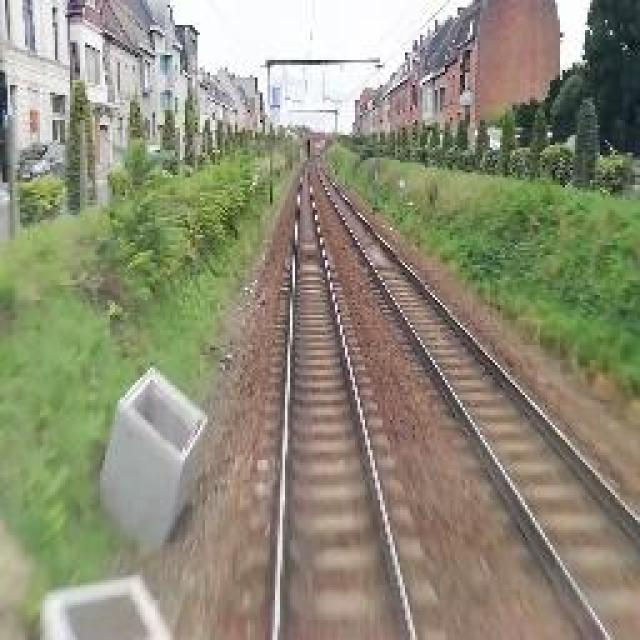rail: (243, 165, 456, 640)
